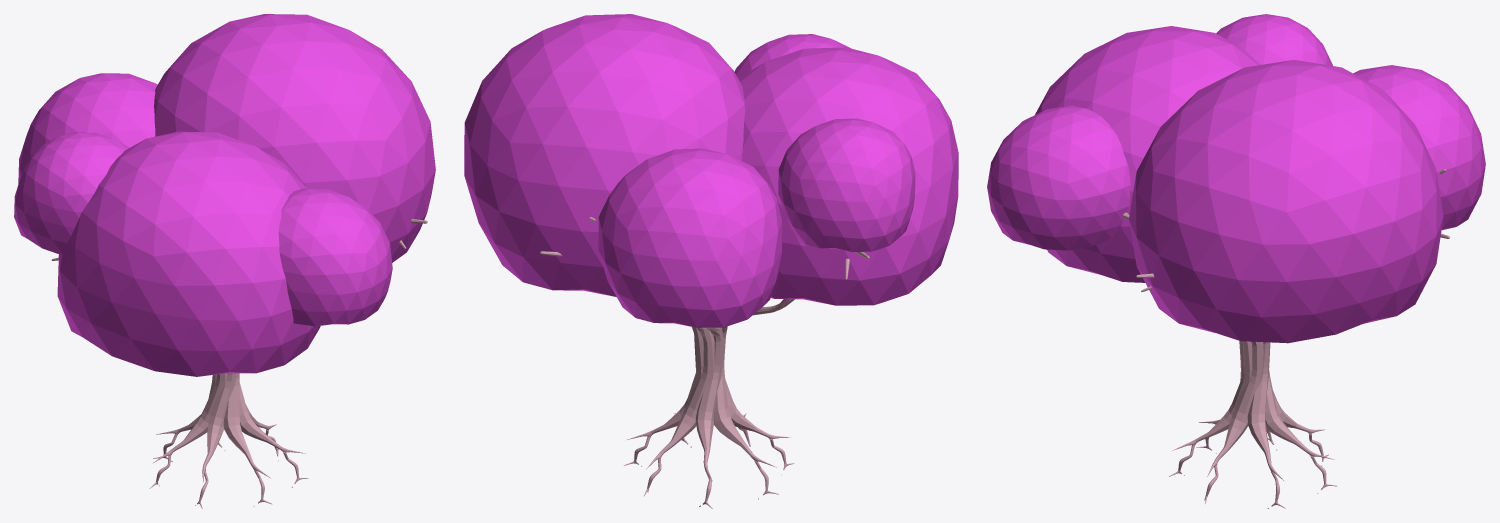
The model's file is sakura-A.obj.
The picture shows the model from 3 angles, left to right: view 1: azimuth 30°, elevation 25°; view 2: azimuth 150°, elevation 25°; view 3: azimuth 270°, elevation 25°; orthographic projection. The views are drawn at different scales.
Visible parts, largest first — view 1: Icosphere.002, Plane; view 2: Icosphere.002, Plane; view 3: Icosphere.002, Plane.
Part boxes in pixels (left/top/right/bottom): Icosphere.002: left=14, top=14, right=435, bottom=376; Plane: left=51, top=219, right=427, bottom=508; Icosphere.002: left=464, top=14, right=958, bottom=327; Plane: left=540, top=217, right=869, bottom=508; Icosphere.002: left=987, top=14, right=1485, bottom=343; Plane: left=1122, top=169, right=1449, bottom=508.
Size of the model in its own units: 10.76 by 10.89 by 11.17.
Materials: 2 (2 with a texture image).
